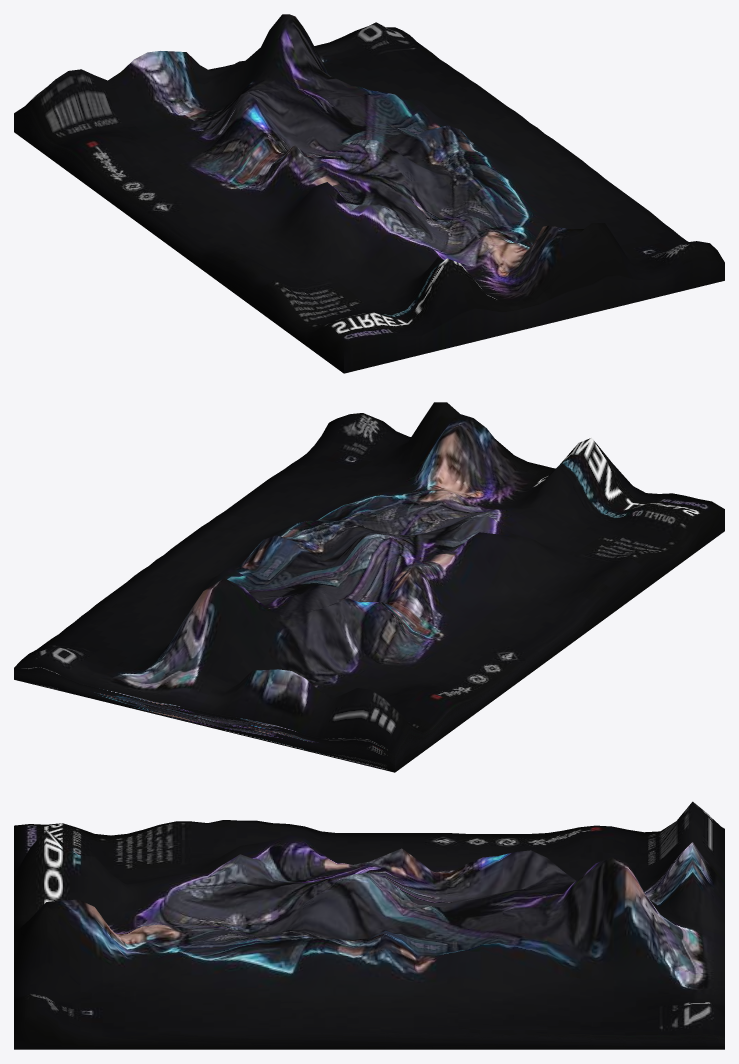
File: CAREER_01_Outfit_07_Casual.glb
3 renders of one model, top to bottom at view 1: azimuth 30°, elevation 25°; view 2: azimuth 150°, elevation 25°; view 3: azimuth 270°, elevation 25°, orthographic. The views are drawn at different scales.
Parts seen in each view (by area): view 1: CAREER_01_Outfit_07_Casual; view 2: CAREER_01_Outfit_07_Casual; view 3: CAREER_01_Outfit_07_Casual.
Boxes of the visible parts, <box> form: CAREER_01_Outfit_07_Casual: <box>14,14,724,373</box>; CAREER_01_Outfit_07_Casual: <box>14,402,724,772</box>; CAREER_01_Outfit_07_Casual: <box>14,801,724,1049</box>.
Bounding box in the file's own units: 2 × 0.51 × 3.
Materials: 1 (1 with a texture image).
